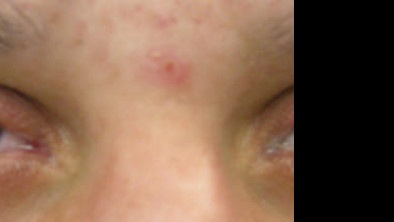SJS-TEN: (116, 21, 209, 113)
